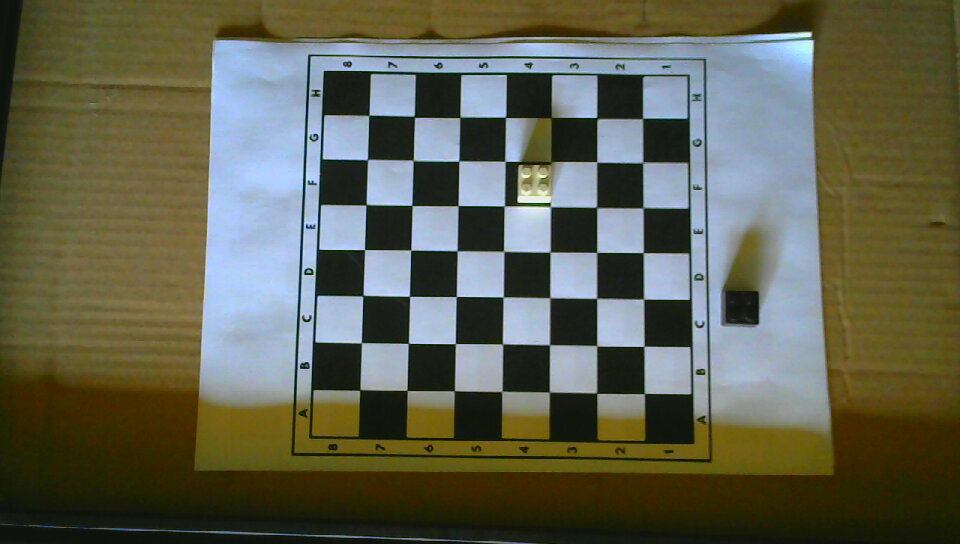bp: (719, 288, 760, 328)
wp: (516, 163, 553, 203)
